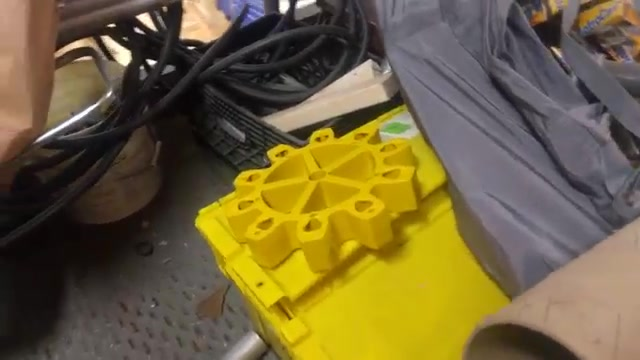gear: (227, 116, 425, 288)
